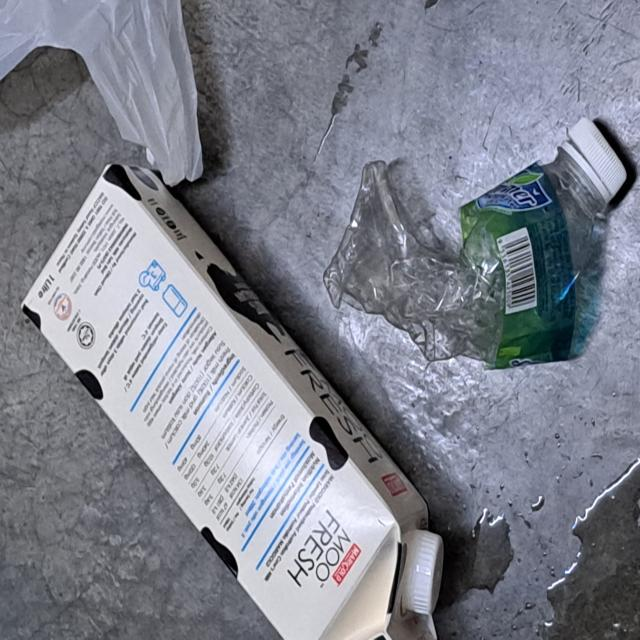drink carton: (23, 164, 445, 640)
plastic bag: (0, 0, 206, 187)
plastic bottle: (323, 153, 608, 370)
plastic bottle cap: (568, 116, 627, 198), (405, 530, 446, 618)
